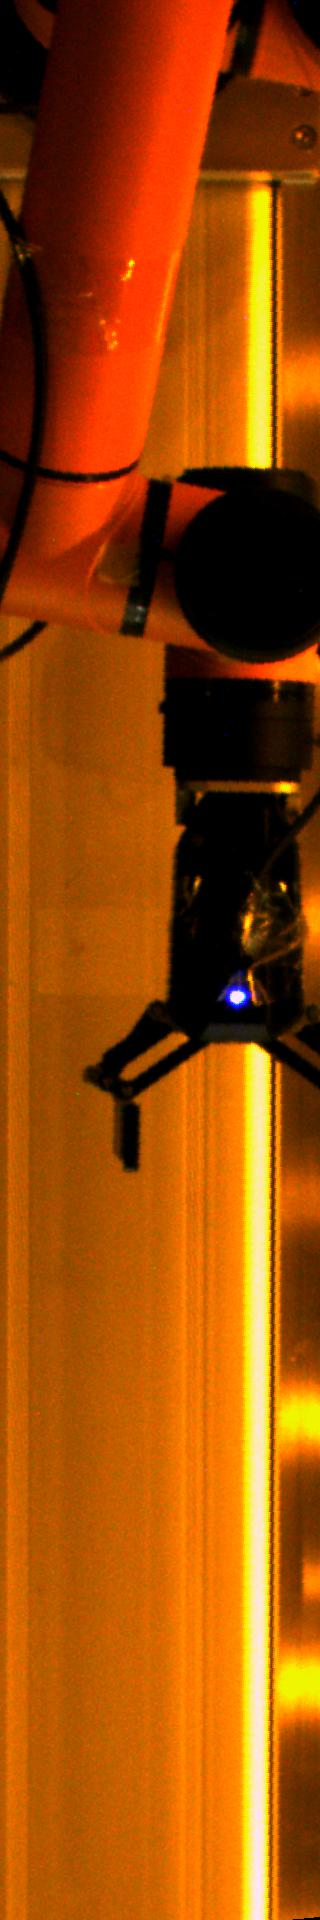keyPoint_1: (222, 980, 253, 1010)
